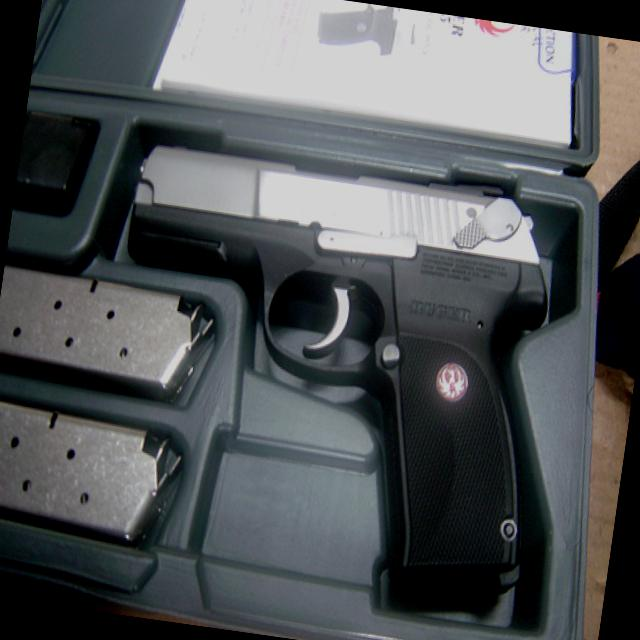handgun: (86, 127, 576, 597)
